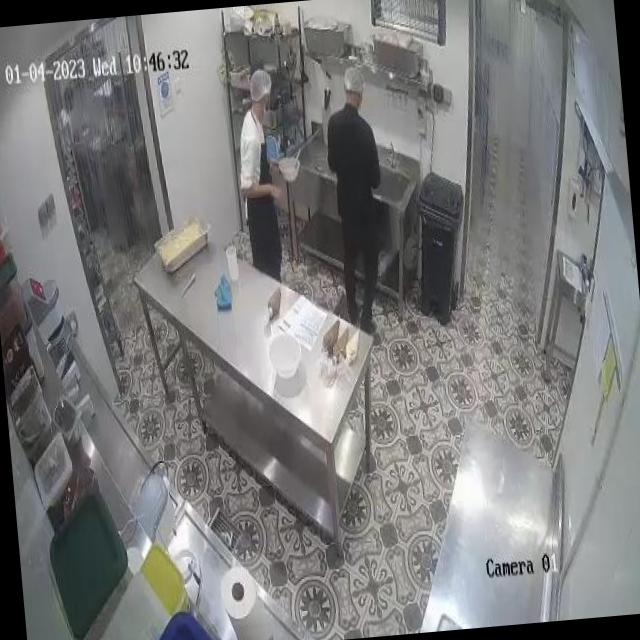hairnet: (246, 68, 272, 99), (342, 64, 363, 92)
